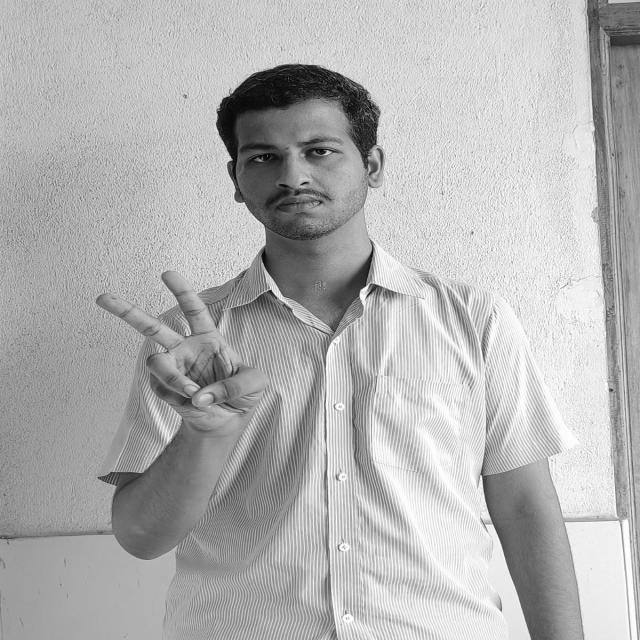Victory: (92, 268, 274, 429)
